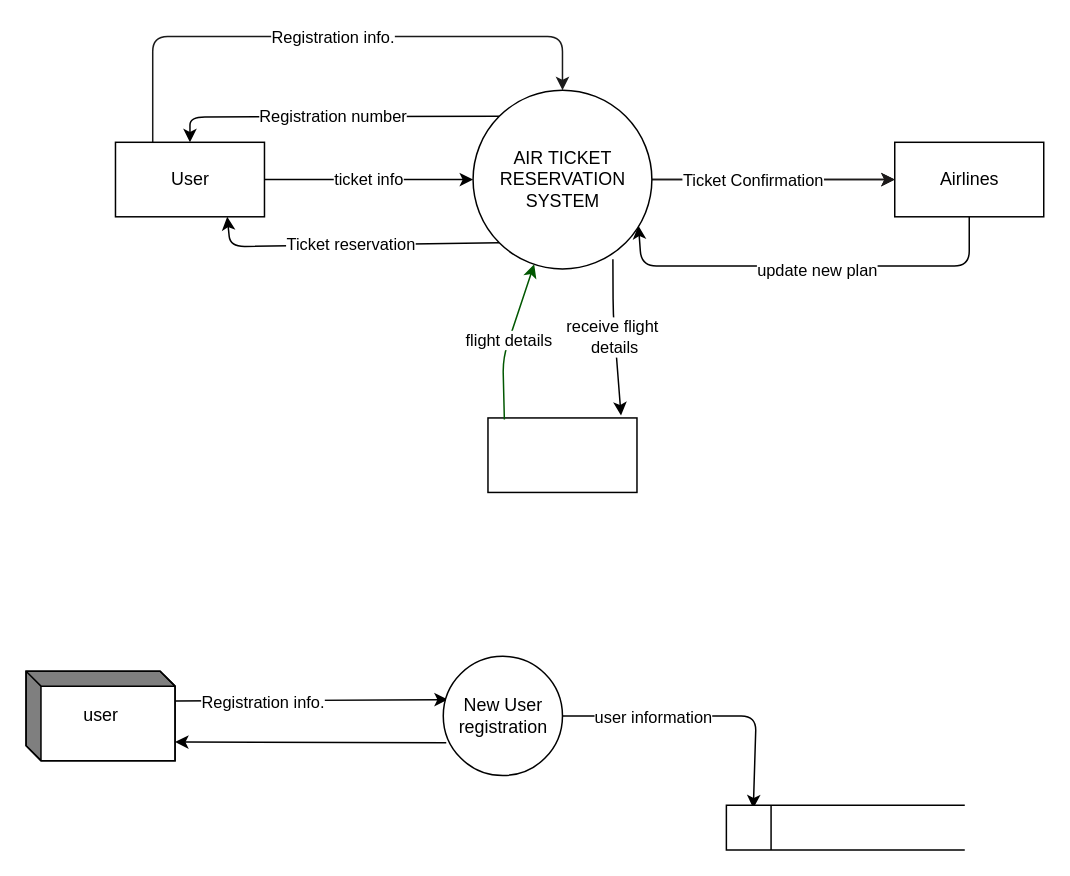
The diagram is 1070 pixels wide and 876 high, and some of its shapes have lost their labels. Each missing label, with the centre of its shape:
"ADMIN" goes at point 561,454.
"D1 User database" goes at point 845,827.
